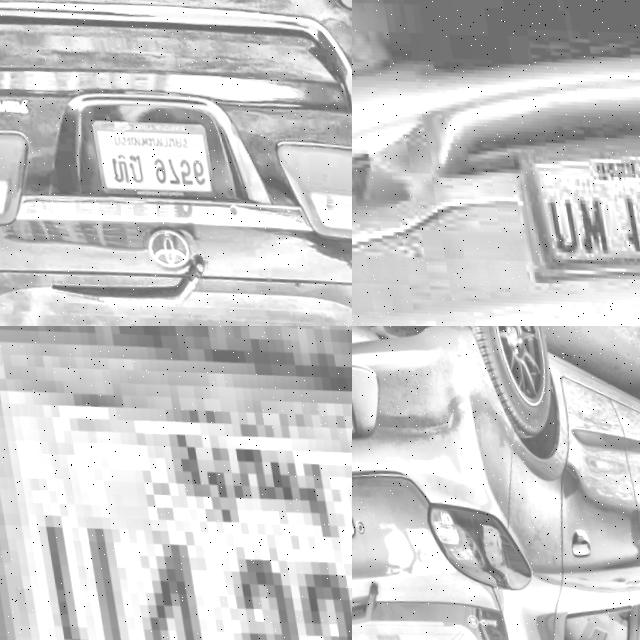license-plate: (0, 326, 352, 640), (494, 98, 640, 295), (84, 106, 209, 197)
